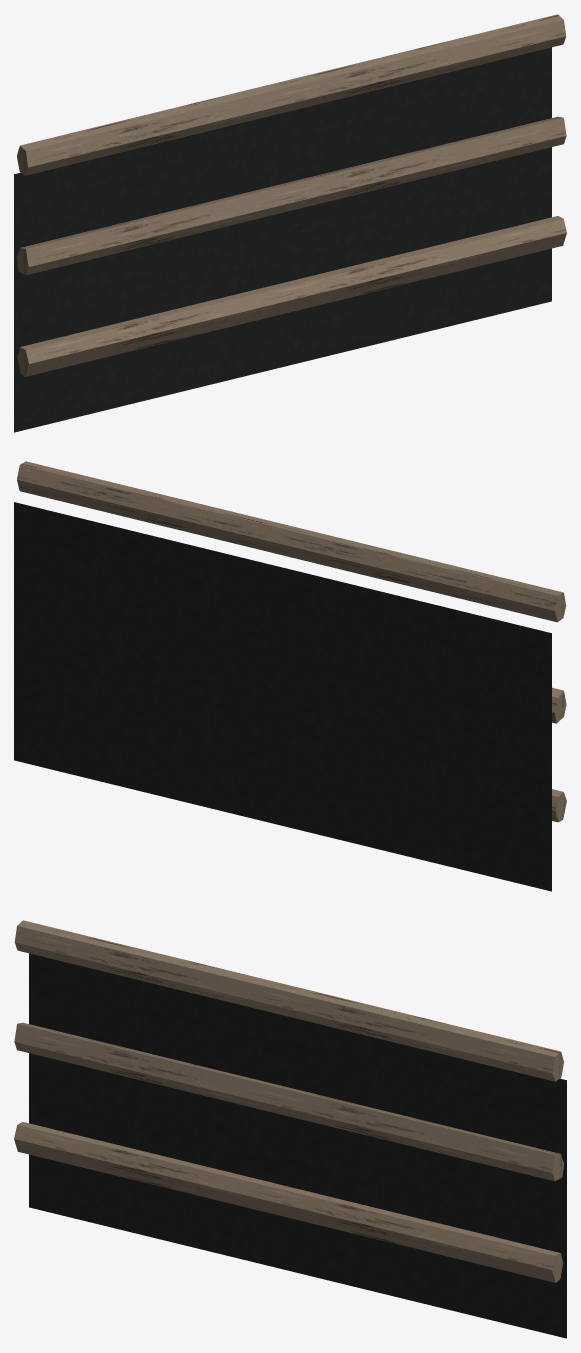
The model's file is fence_splitrail_panel.gltf.
3 views of the same model, one above another, from view 1: azimuth 30°, elevation 25°; view 2: azimuth 150°, elevation 25°; view 3: azimuth 330°, elevation 25° (orthographic).
Visible parts, largest first — view 1: fence_splitrail_panel; view 2: fence_splitrail_panel; view 3: fence_splitrail_panel.
Part boxes in pixels (x1,y1,x2,y2): fence_splitrail_panel: (14, 14, 566, 432); fence_splitrail_panel: (14, 461, 566, 891); fence_splitrail_panel: (14, 920, 566, 1338).
Size of the model in its own units: 2.38 by 1.23 by 0.1146.
Materials: 2 (2 with a texture image).
